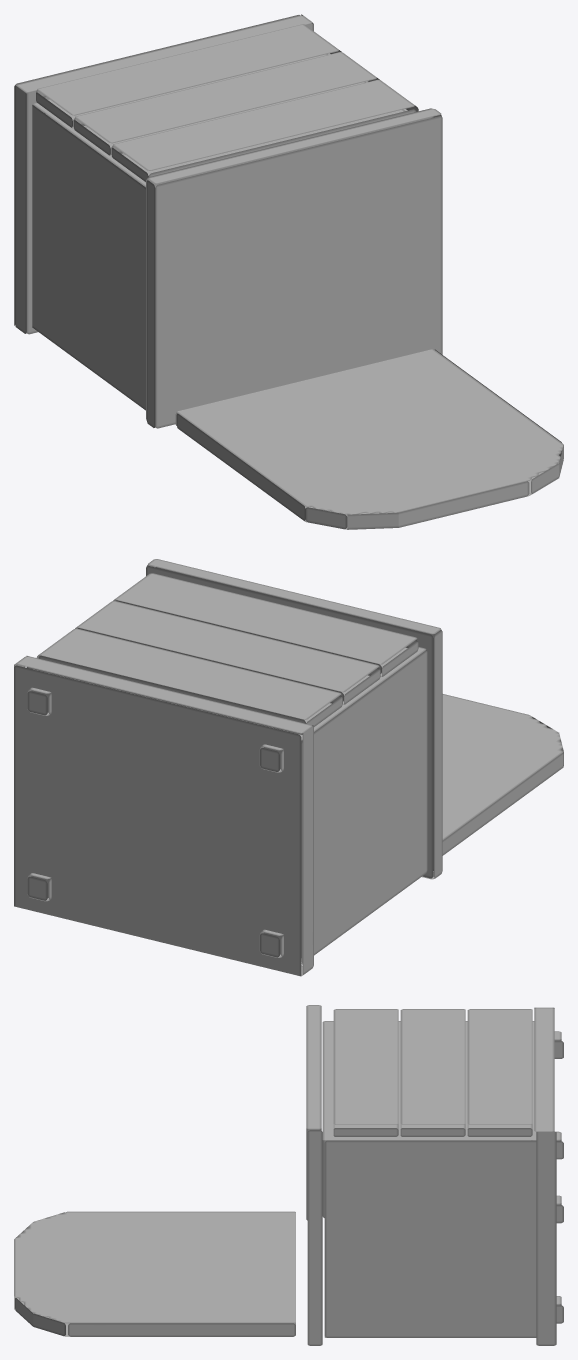
The model's file is pz_drawer_storage_01_lit_mirror_and.obj.
3 renders of one model, top to bottom at view 1: azimuth 30°, elevation 25°; view 2: azimuth 150°, elevation 25°; view 3: azimuth 270°, elevation 25°, orthographic. The views are drawn at different scales.
Parts seen in each view (by area): view 1: root; view 2: root; view 3: root.
Part boxes in pixels (left/top/right/bottom): root: left=14, top=14, right=563, bottom=529; root: left=14, top=559, right=563, bottom=976; root: left=14, top=1005, right=563, bottom=1345.
Bounding box in the file's own units: 0.99 × 0.805 × 1.85.
1 material, 1 textured.
